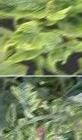Tomato leaf yellow virus: (0, 0, 79, 18), (12, 33, 62, 56), (18, 18, 44, 35), (7, 103, 17, 126), (26, 90, 38, 108), (44, 122, 54, 140), (12, 129, 22, 140)
